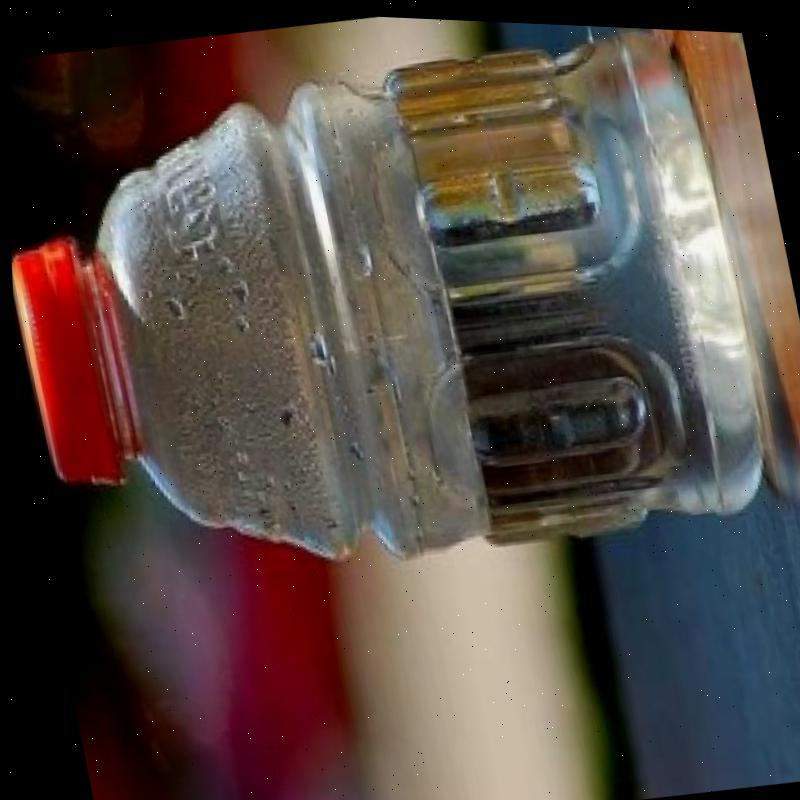botella: (0, 0, 784, 621)
